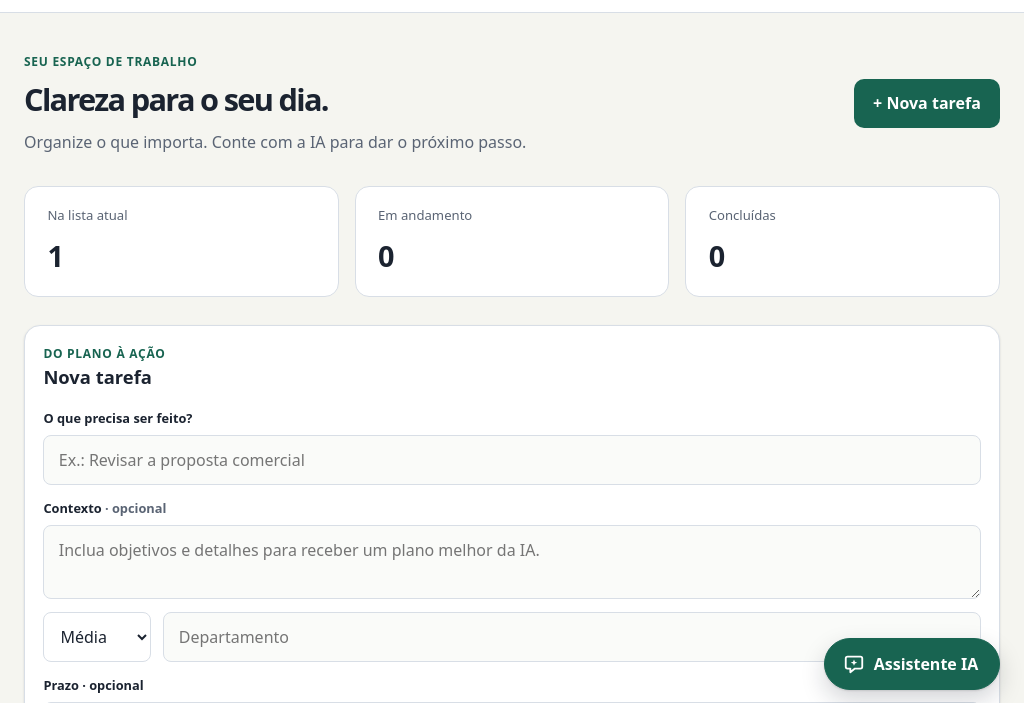
Scenario: TasksPage chat popup › starts closed and a task the chat creates after closing it shows up in the list
Click the button "Assistente IA": coordinates (912, 664) [824, 638, 1000, 690]
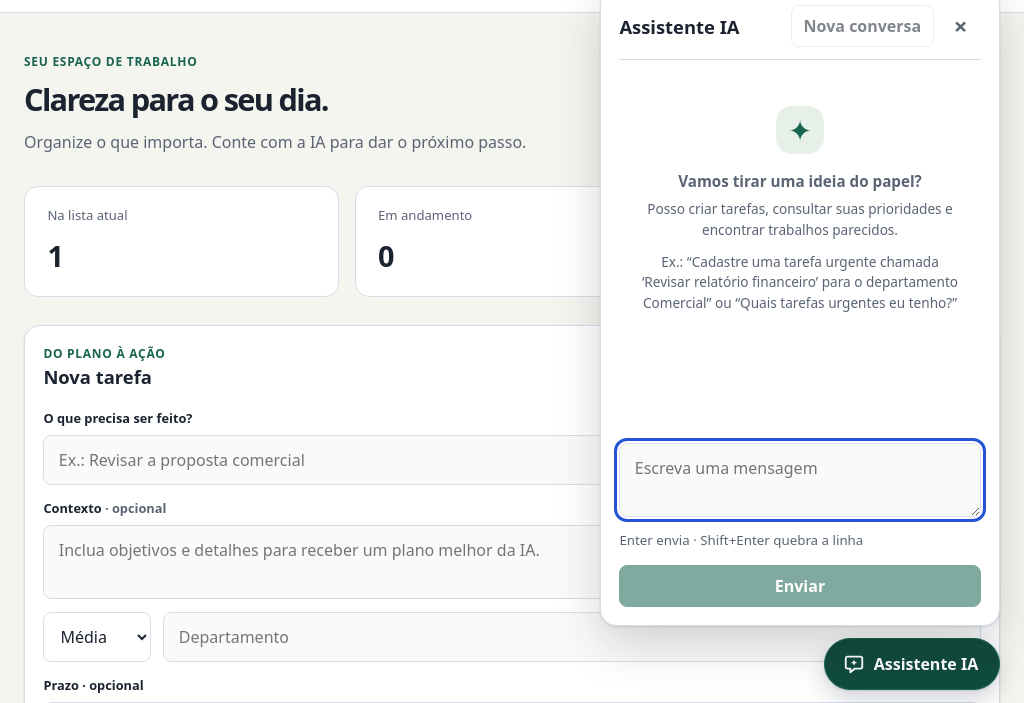
In the text box named "Mensagem para o assistente": coordinates (800, 480) [619, 443, 981, 517], type "crie uma tarefa"
Then press Enter
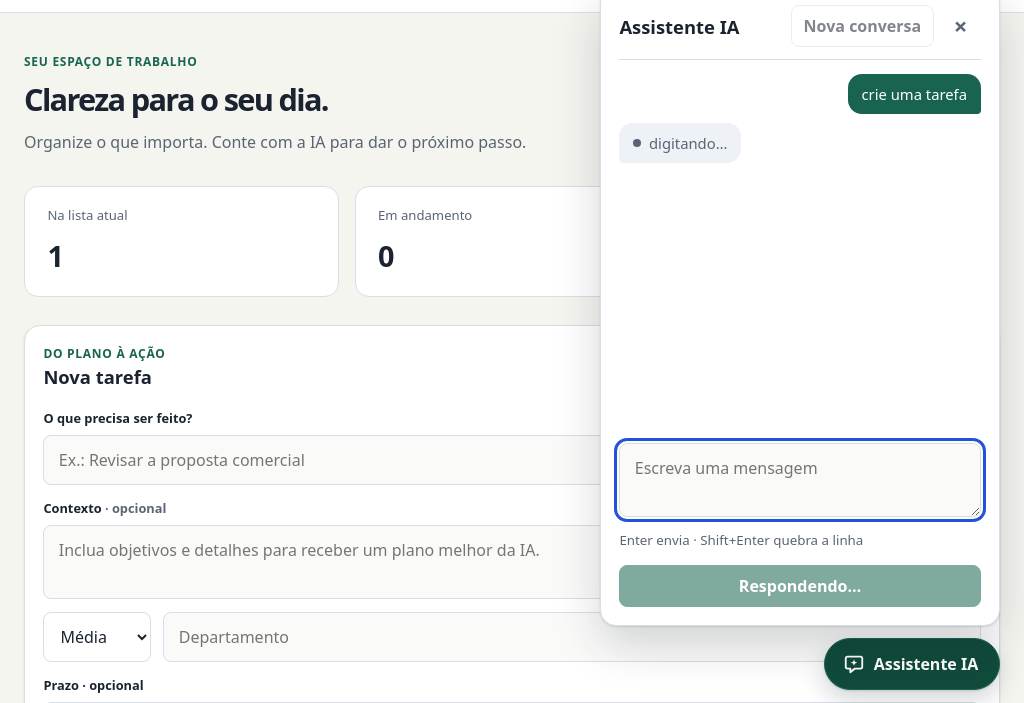
Click the button named "Fechar assistente": coordinates (961, 26) [941, 6, 981, 46]
(page scrolled)
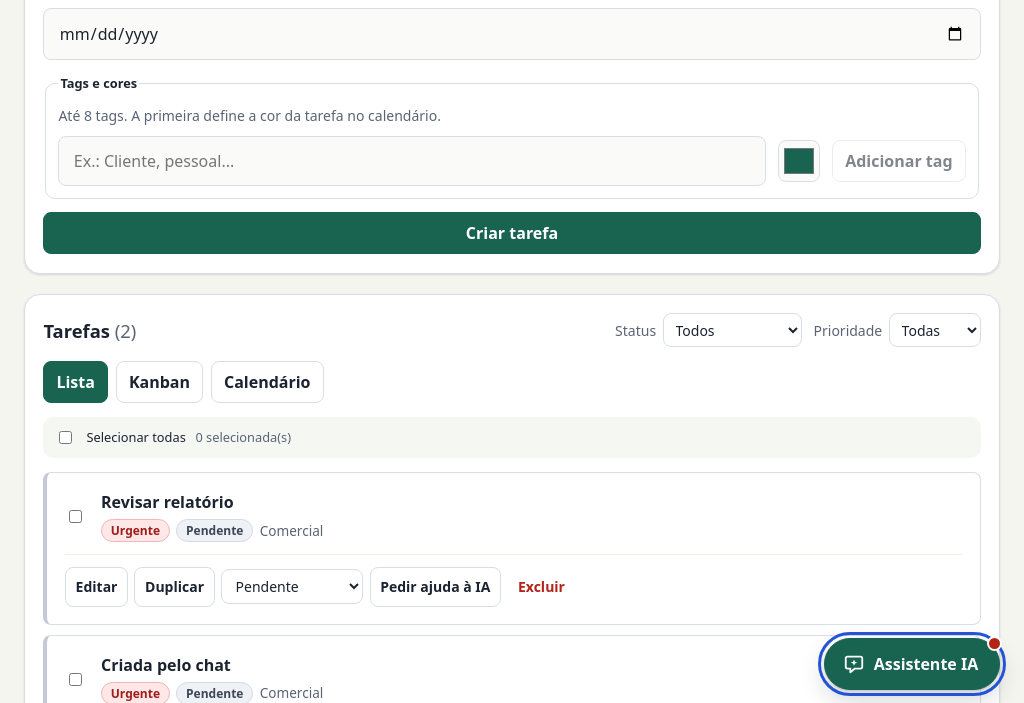
Expected: the text "Criada pelo chat" is shown, [101, 654, 231, 676]
Expected: the heading "Tarefas (2)" is shown, [43, 316, 136, 344]
